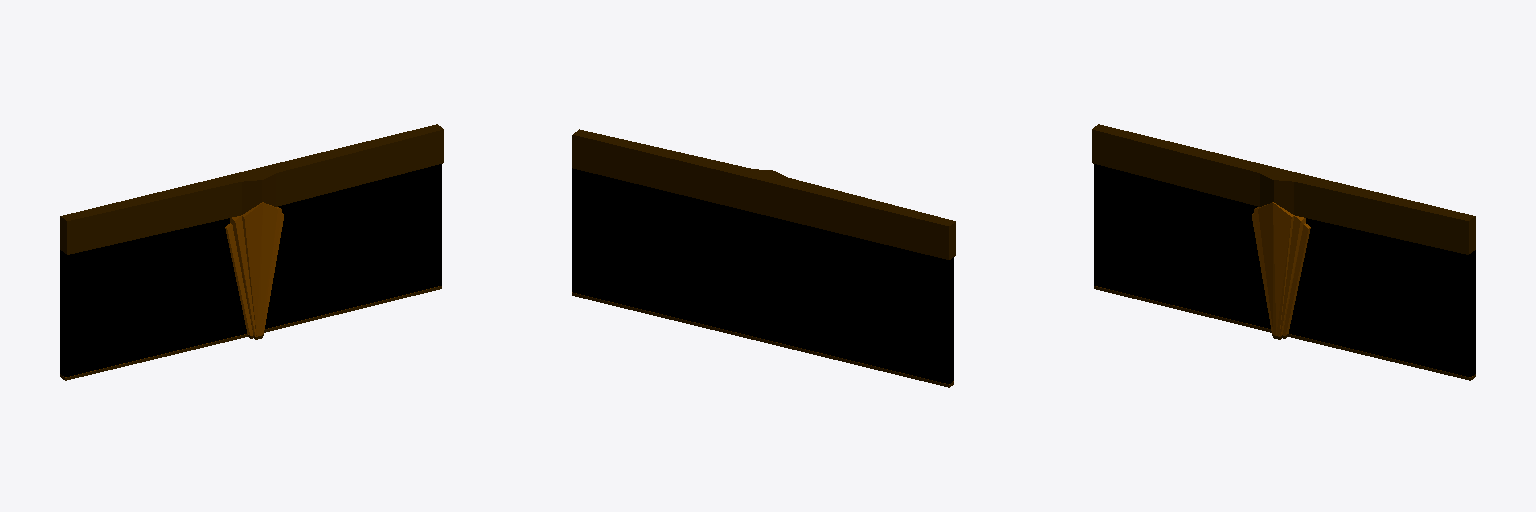
The model's file is wall_piece_long.obj.
3 renders of one model, left to right at view 1: azimuth 30°, elevation 25°; view 2: azimuth 150°, elevation 25°; view 3: azimuth 330°, elevation 25°, orthographic.
Visible parts, largest first — view 1: pCube1; view 2: pCube1; view 3: pCube1.
Part boxes in pixels (bbox=[...]): pCube1: bbox=[60, 124, 443, 380]; pCube1: bbox=[572, 129, 955, 387]; pCube1: bbox=[1092, 124, 1475, 380].
Bounding box in the file's own units: 109 × 44.48 × 7.09.